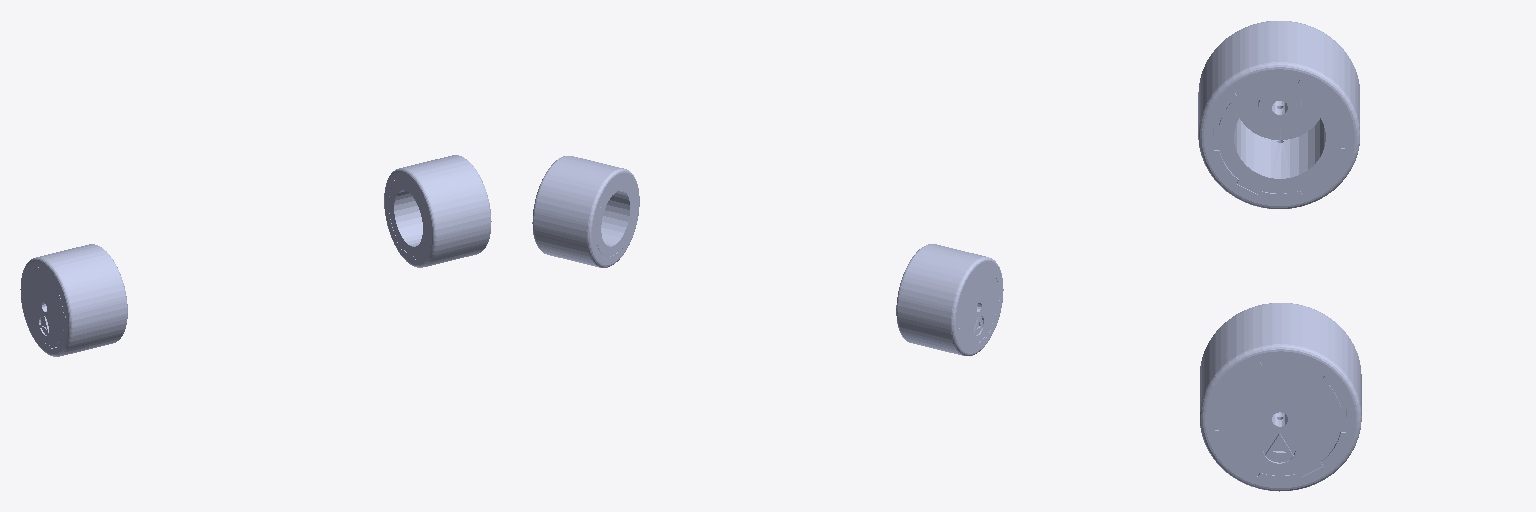
URDF robot description (smacp):
<?xml version="1.0" encoding="utf-8"?>
<!-- This URDF was automatically created by SolidWorks to URDF Exporter! Originally created by [author] ([email redacted]) 
     Commit Version: 1.6.0-4-g7f85cfe  Build Version: 1.6.7995.38578
     For more information, please see http://wiki.ros.org/sw_urdf_exporter -->
<robot
  name="smacp">
  <link
    name="base_link">
    <inertial>
      <origin
        xyz="-1.9504E-06 0.018767 -0.045855"
        rpy="0 0 0" />
      <mass
        value="0.18623" />
      <inertia
        ixx="0.00023598"
        ixy="1.6952E-09"
        ixz="-1.4231E-09"
        iyy="0.00050787"
        iyz="-1.0088E-05"
        izz="0.00030832" />
    </inertial>
    <visual>
      <origin
        xyz="0 0 0"
        rpy="0 0 0" />
      <geometry>
        <mesh
          filename="package://smacp/meshes/base_link.STL" />
      </geometry>
      <material
        name="">
        <color
          rgba="0.75294 0.75294 0.75294 1" />
      </material>
    </visual>
    <collision>
      <origin
        xyz="0 0 0"
        rpy="0 0 0" />
      <geometry>
        <mesh
          filename="package://smacp/meshes/base_link.STL" />
      </geometry>
    </collision>
  </link>
  <link
    name="Rueda_Izq">
    <inertial>
      <origin
        xyz="1.97548833374347E-05 -5.93702393741503E-05 0.010581849079838"
        rpy="0 0 0" />
      <mass
        value="0.0108737045107905" />
      <inertia
        ixx="1.12084842661512E-06"
        ixy="4.65069079195102E-10"
        ixz="-7.72463451002501E-10"
        iyy="1.12069201644994E-06"
        iyz="-6.5340739355055E-10"
        izz="1.51855757742517E-06" />
    </inertial>
    <visual>
      <origin
        xyz="0 0 0"
        rpy="0 0 0" />
      <geometry>
        <mesh
          filename="package://smacp/meshes/Rueda_Izq.STL" />
      </geometry>
      <material
        name="">
        <color
          rgba="0.792156862745098 0.819607843137255 0.933333333333333 1" />
      </material>
    </visual>
    <collision>
      <origin
        xyz="0 0 0"
        rpy="0 0 0" />
      <geometry>
        <mesh
          filename="package://smacp/meshes/Rueda_Izq.STL" />
      </geometry>
    </collision>
  </link>
  <joint
    name="Motor_Izq"
    type="continuous">
    <origin
      xyz="-0.05177 -9.5E-05 0.007875"
      rpy="1.5708 -0.85 -1.5708" />
    <parent
      link="base_link" />
    <child
      link="Rueda_Izq" />
    <axis
      xyz="0 0 1" />
  </joint>
  <link
    name="Rueda_Der">
    <inertial>
      <origin
        xyz="1.97548833374139E-05 -5.93702393741511E-05 0.0105818490798387"
        rpy="0 0 0" />
      <mass
        value="0.0108737045107905" />
      <inertia
        ixx="1.12084842661512E-06"
        ixy="4.65069079194996E-10"
        ixz="-7.72463451002481E-10"
        iyy="1.12069201644994E-06"
        iyz="-6.53407393550393E-10"
        izz="1.51855757742517E-06" />
    </inertial>
    <visual>
      <origin
        xyz="0 0 0"
        rpy="0 0 0" />
      <geometry>
        <mesh
          filename="package://smacp/meshes/Rueda_Der.STL" />
      </geometry>
      <material
        name="">
        <color
          rgba="0.792156862745098 0.819607843137255 0.933333333333333 1" />
      </material>
    </visual>
    <collision>
      <origin
        xyz="0 0 0"
        rpy="0 0 0" />
      <geometry>
        <mesh
          filename="package://smacp/meshes/Rueda_Der.STL" />
      </geometry>
    </collision>
  </link>
  <joint
    name="Motor_Der"
    type="continuous">
    <origin
      xyz="0.05177 -9.5E-05 0.007875"
      rpy="1.5708 -0.85 1.5708" />
    <parent
      link="base_link" />
    <child
      link="Rueda_Der" />
    <axis
      xyz="0 0 1" />
  </joint>
</robot>

--- Facts derived from the render (not from the file) ---
Views: 3 orthographic renders of the robot side by side, from view 1: azimuth 30°, elevation 25°; view 2: azimuth 150°, elevation 25°; view 3: azimuth 270°, elevation 25°.
Model smacp with 3 links and 2 joints (2 continuous), rooted at base_link, posed all joints at 0.
Links seen in each view (by area): view 1: Rueda_Der, Rueda_Izq; view 2: Rueda_Der, Rueda_Izq; view 3: Rueda_Izq, Rueda_Der.
Boxes of the visible links, x1,y1,x2,y2 form: Rueda_Der: (384, 155, 491, 267); Rueda_Izq: (20, 244, 127, 356); Rueda_Der: (532, 156, 639, 267); Rueda_Izq: (896, 244, 1003, 355); Rueda_Izq: (1198, 21, 1359, 208); Rueda_Der: (1200, 303, 1361, 491).
Bounding box of the posed robot: 0.1435 × 0.0302 × 0.03 m (x, y, z).
Meshes: 3 distinct files referenced, 2 mesh visuals loaded (2 binary STL); not drawn: 1 (reference not matched to a file when rendering).